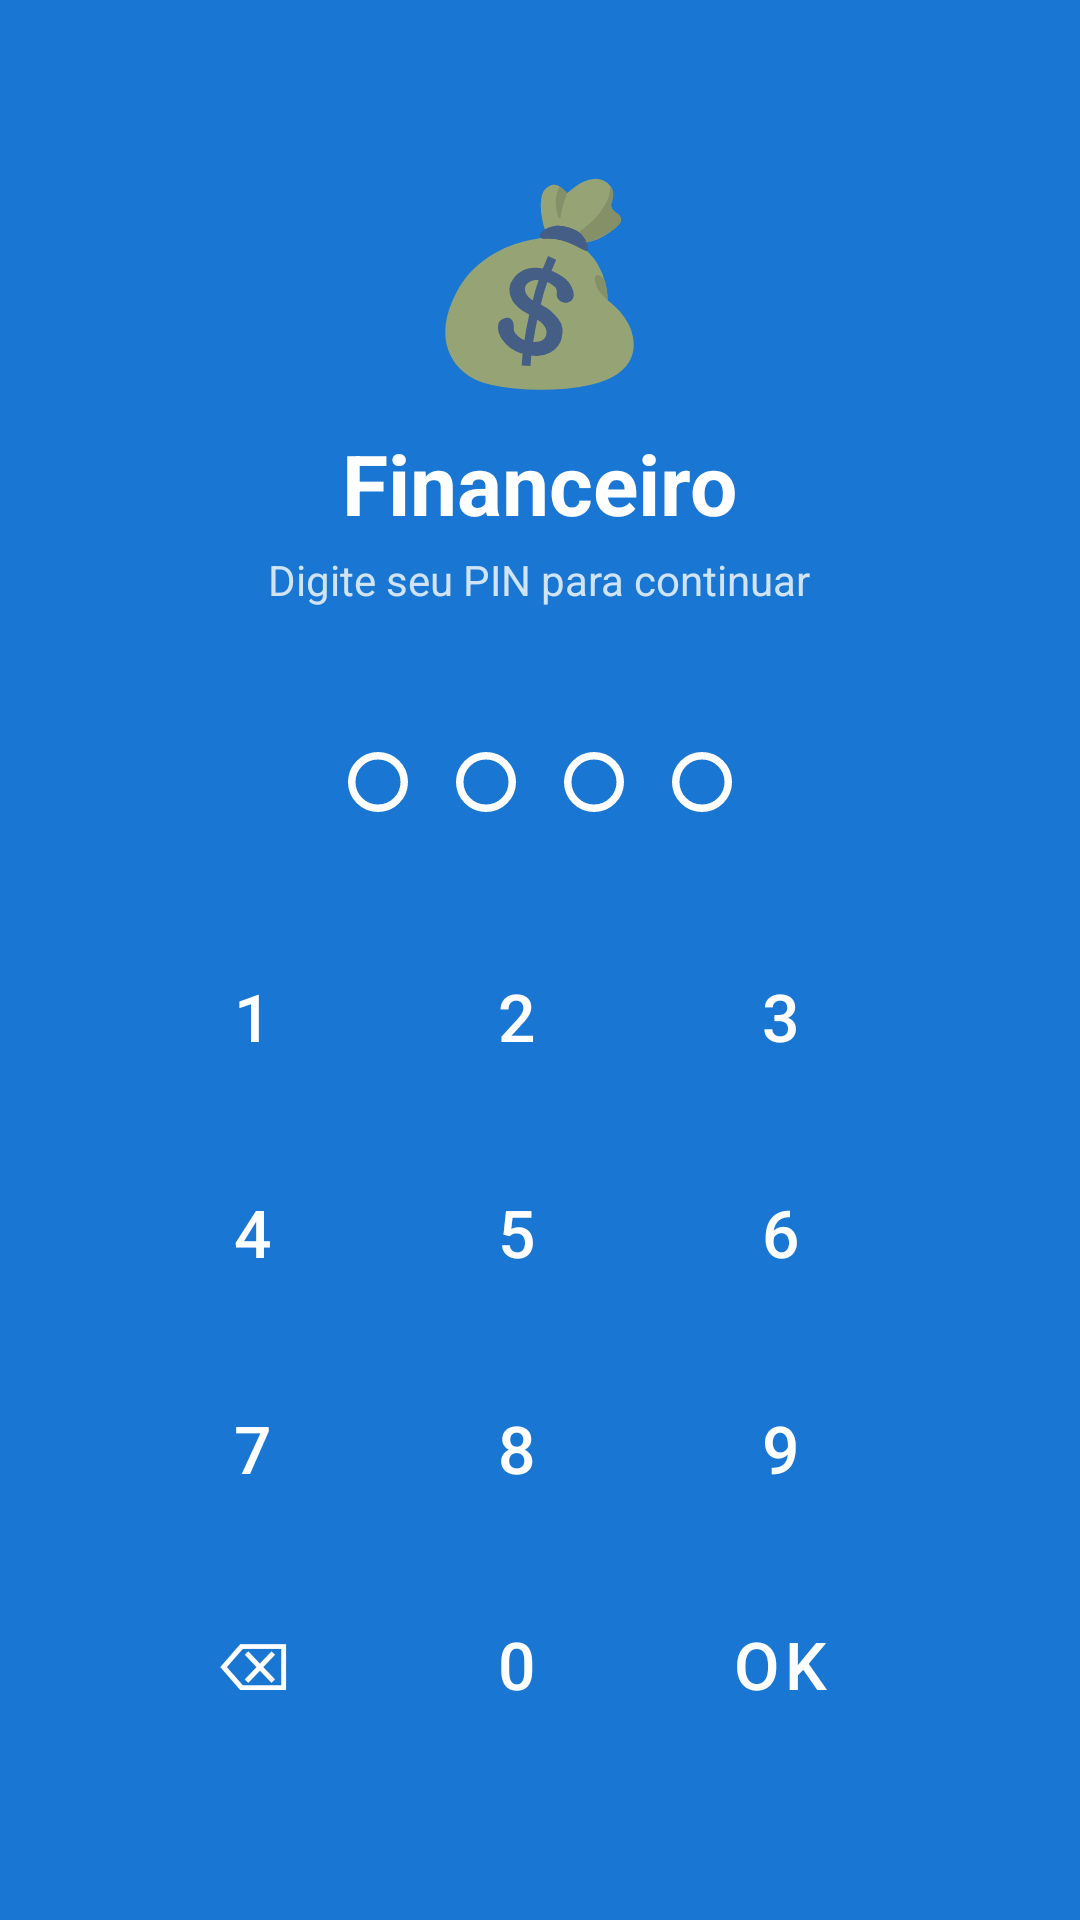

Icons on this 1080×1920 Android screen, each with its box as (x1, y1, x2, y2):
dot empty: (348, 752, 408, 812), (456, 752, 516, 812), (564, 752, 624, 812), (672, 752, 732, 812)
